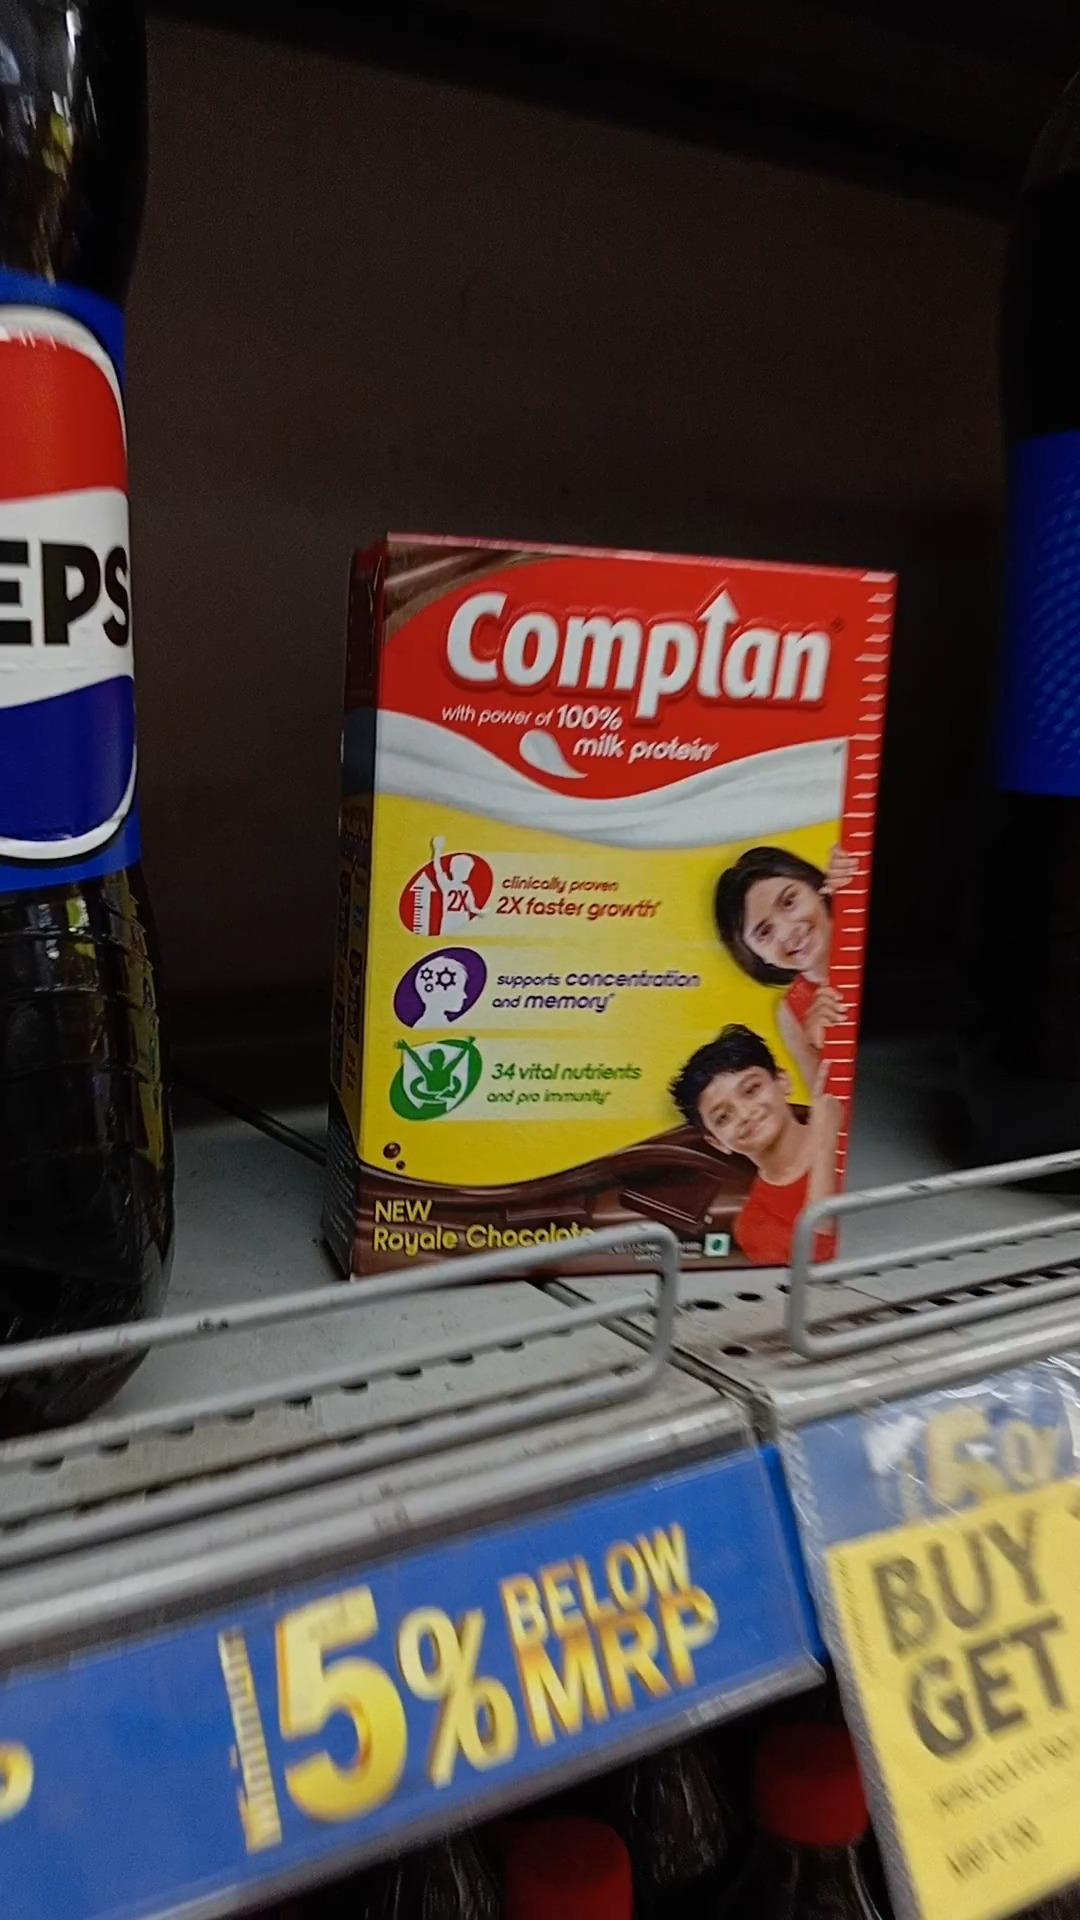COMPLAN_CHOCOLATE_200_GMS_PACK: (375, 543, 872, 1266)
